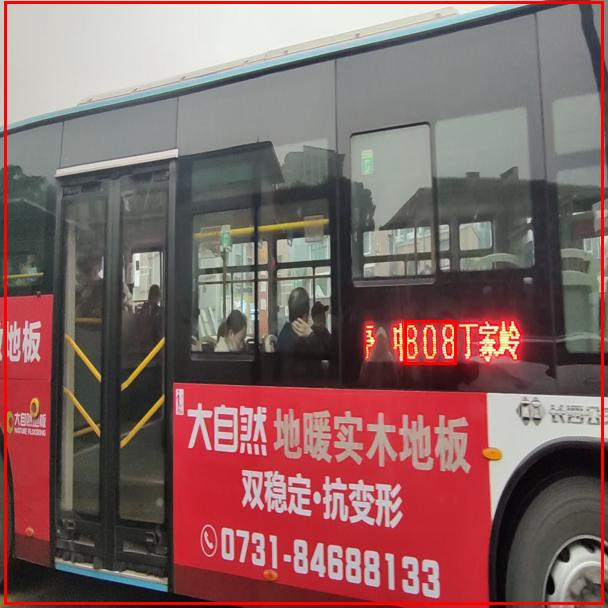bus: (4, 1, 603, 604)
screen: (404, 320, 456, 364)
